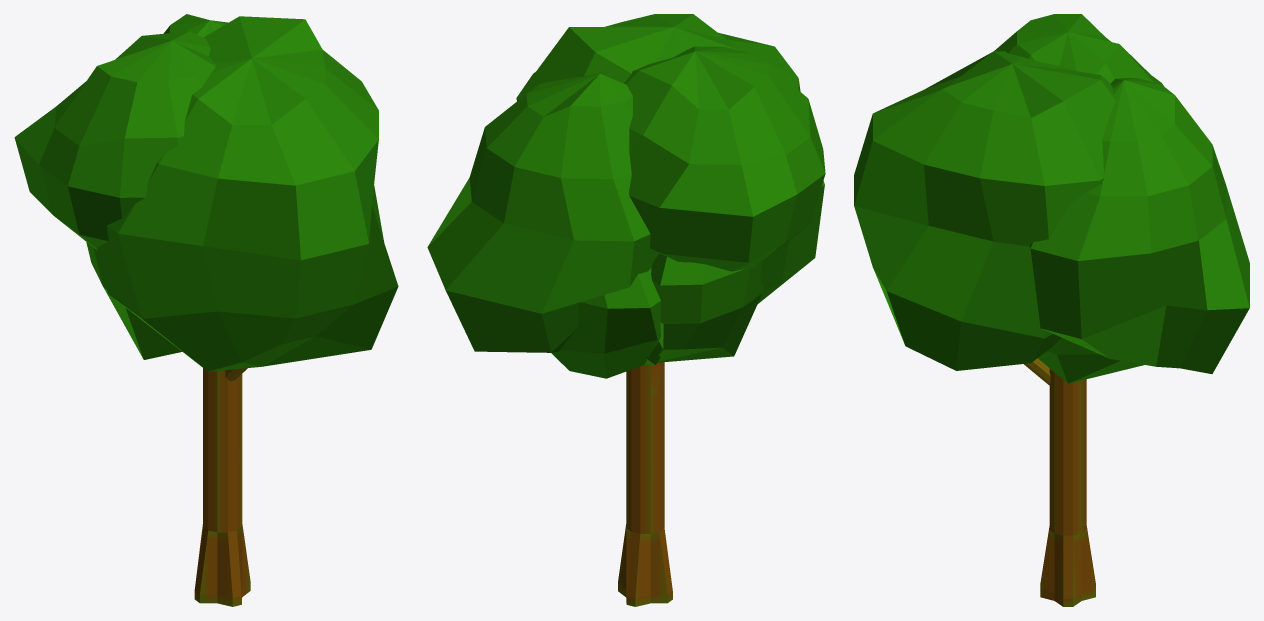
Rendered from Tree.fbx.
The picture shows the model from 3 angles, left to right: view 1: azimuth 30°, elevation 25°; view 2: azimuth 150°, elevation 25°; view 3: azimuth 270°, elevation 25°; orthographic projection. The views are drawn at different scales.
Parts seen in each view (by area): view 1: tree-body; view 2: tree-body; view 3: tree-body.
Boxes of the visible parts, box(x1,y1,x2,y2) form: tree-body: box(14, 14, 398, 606); tree-body: box(427, 14, 825, 606); tree-body: box(854, 14, 1249, 606).
Bounding box in the file's own units: 119 × 200 × 133.
Materials: 1 (1 with a texture image).
